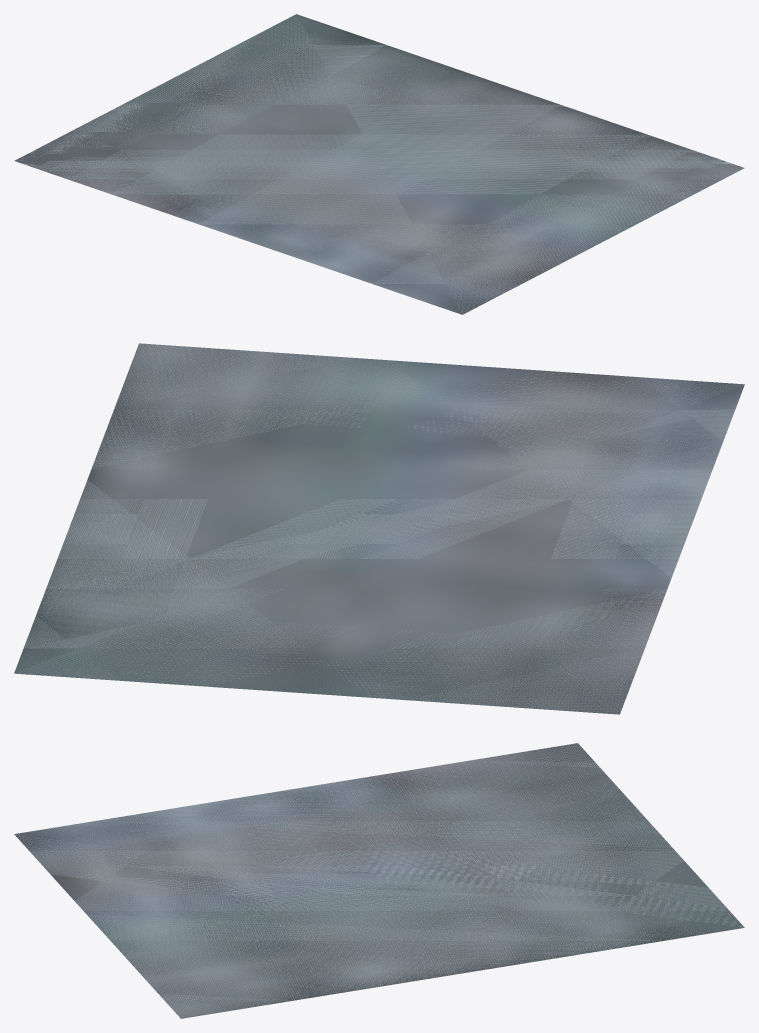
The model's file is 西庸城堡425.dae.
3 views of the same model, one above another, from view 1: azimuth 30°, elevation 25°; view 2: azimuth 150°, elevation 25°; view 3: azimuth 270°, elevation 25° (orthographic). The views are drawn at different scales.
Parts seen in each view (by area): view 1: SketchUp; view 2: SketchUp; view 3: SketchUp.
Part boxes in pixels (box(x1,y1,x2,y2)): SketchUp: box(14, 14, 744, 314); SketchUp: box(14, 343, 744, 714); SketchUp: box(14, 743, 744, 1018).
Size of the model in its own units: 54.9 by 61.49 by 0.
2 materials, 1 textured.
